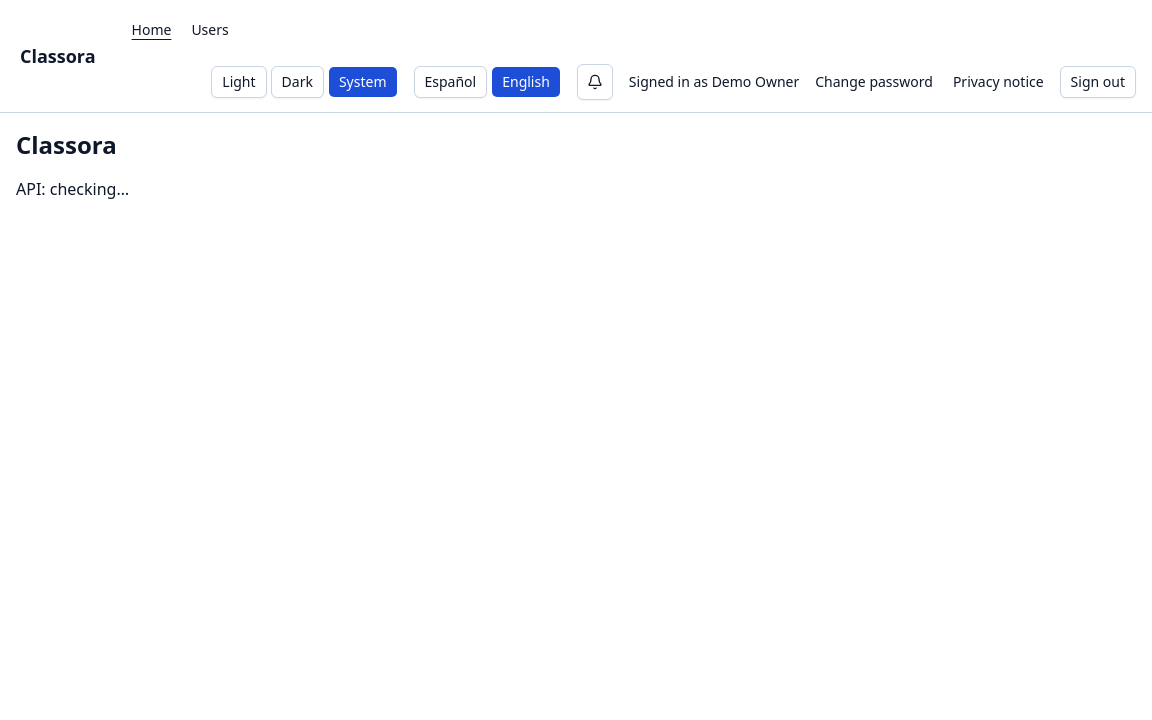
Test: route and header link (K1) › the header links to the page; one h1 and a title; no nav item
Step 1. Click the link "Change password" → [874, 82], box 815,72 -> 933,91
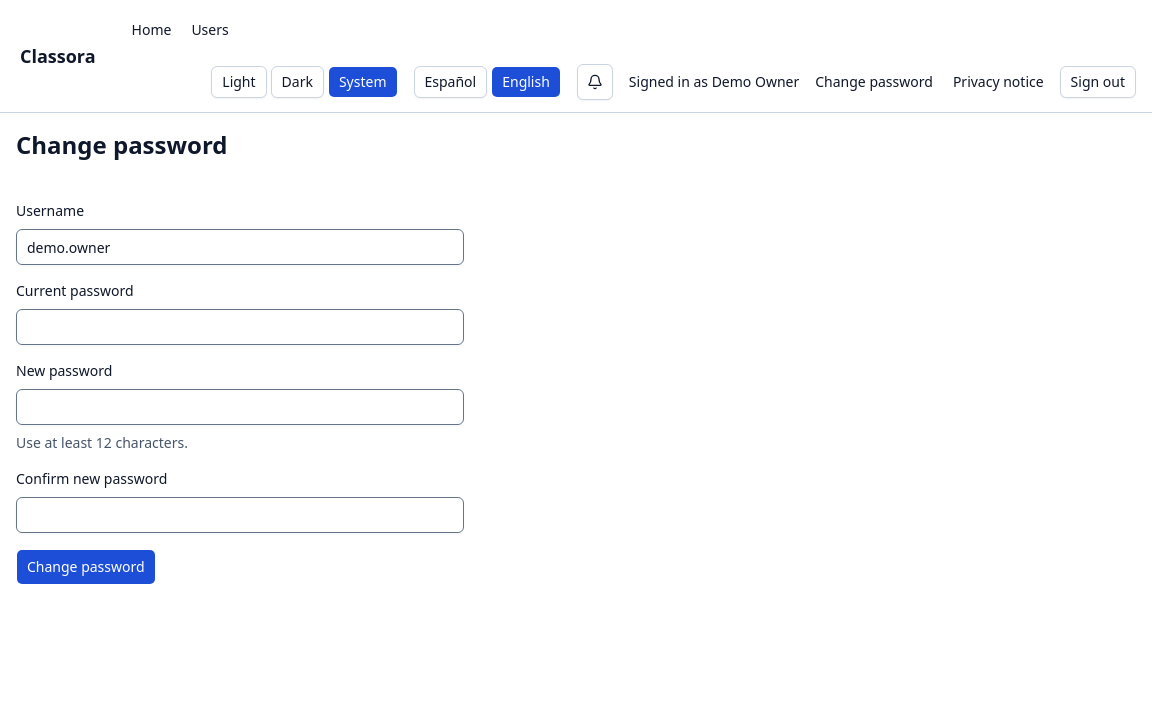
Check: the number of headings is 1, box 16,128 -> 228,161
Check: the heading "Change password" is shown, box 16,128 -> 228,161
